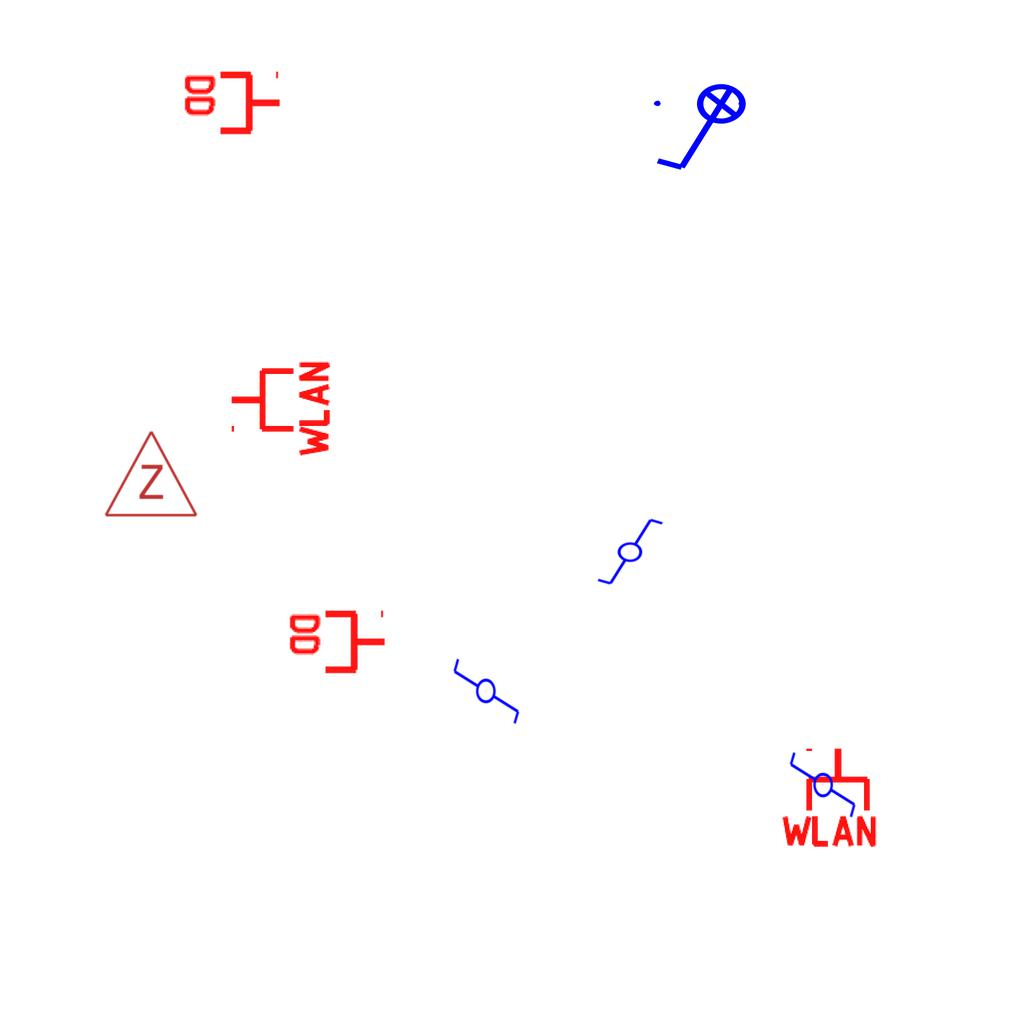Ausschalter_beleuchtet: (648, 82, 760, 178)
Datenanschluss_zweifach: (285, 609, 388, 678), (180, 70, 283, 139)
WLAN: (777, 744, 881, 849), (227, 357, 332, 461)
Wechselschalter: (451, 648, 523, 726), (587, 515, 665, 587), (786, 750, 858, 828)
Zimmersignalleuchte: (101, 424, 199, 524)
